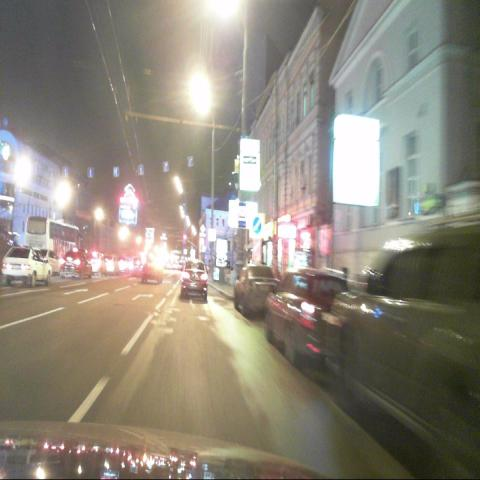7_2: (237, 200, 247, 228)
